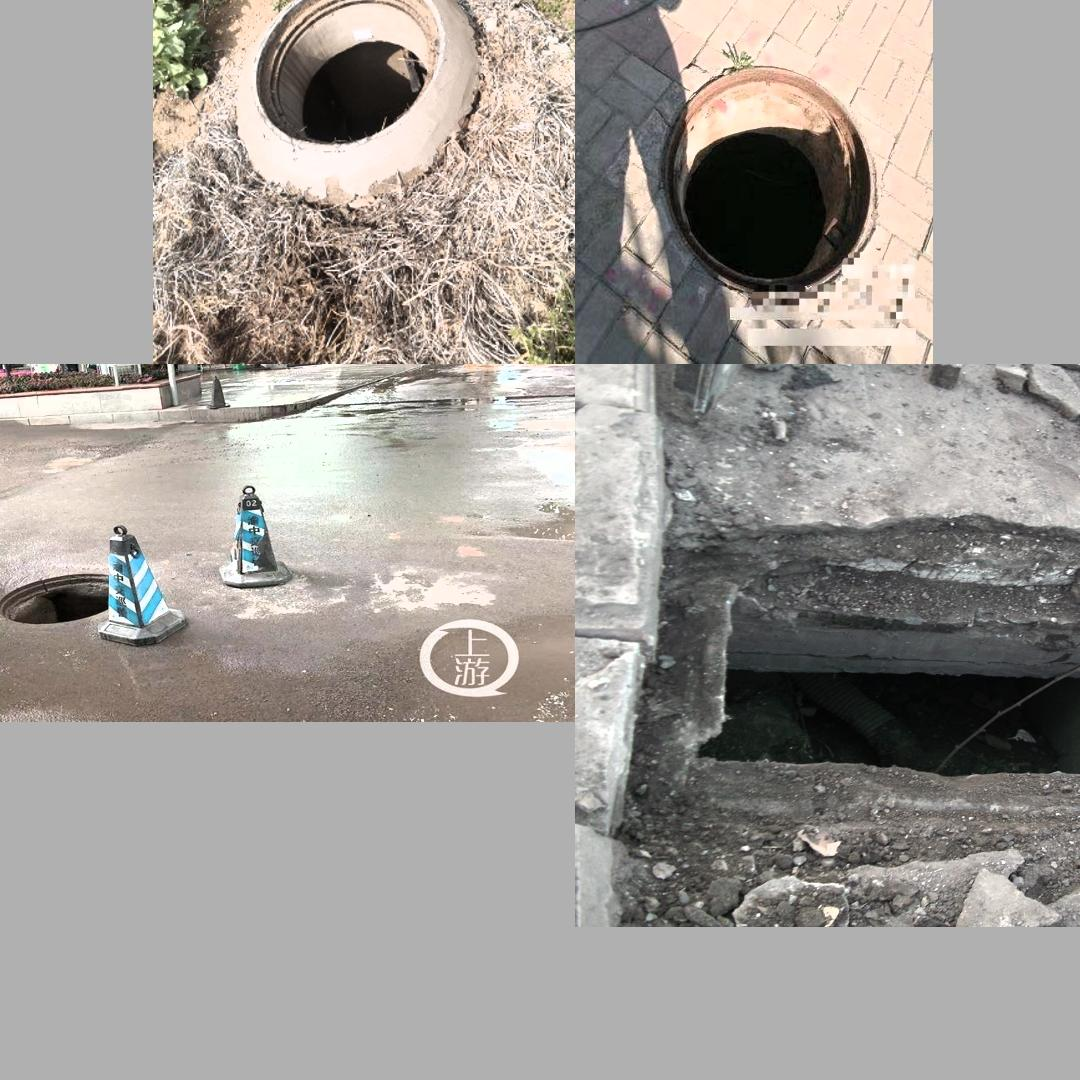lose: (691, 591, 1080, 780), (652, 43, 899, 299), (240, 0, 466, 151), (0, 558, 136, 631)
